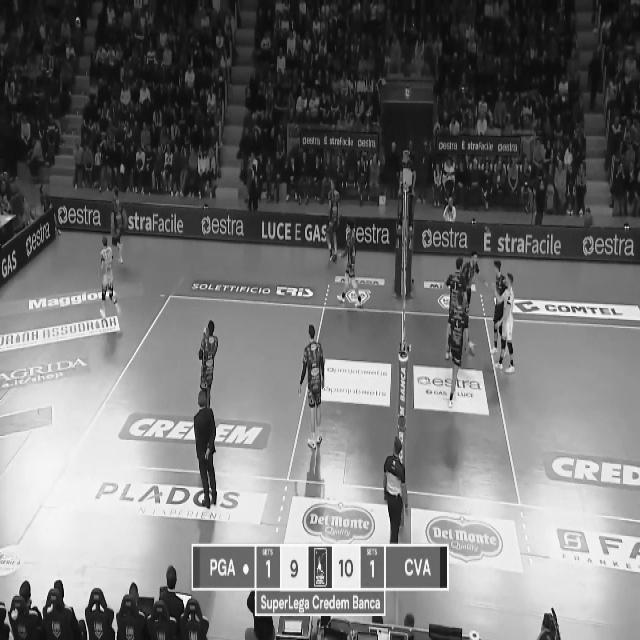volleyball court: (73, 292, 639, 520)
